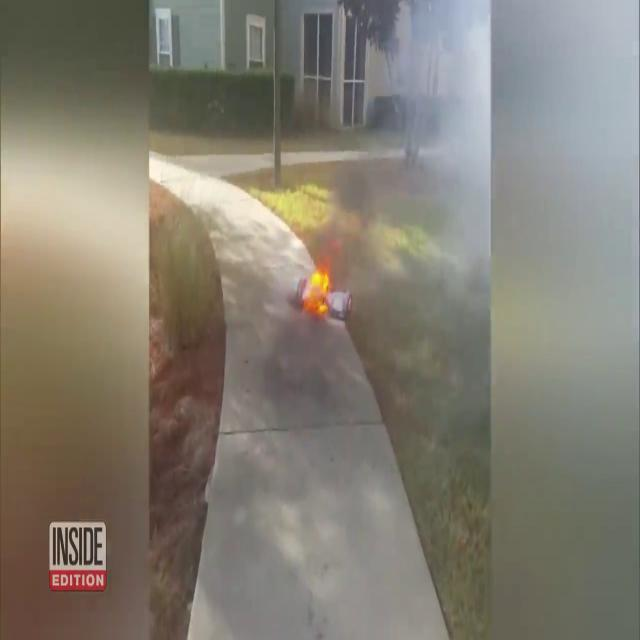Fire: (301, 261, 334, 313)
Smoke: (334, 1, 491, 304)
